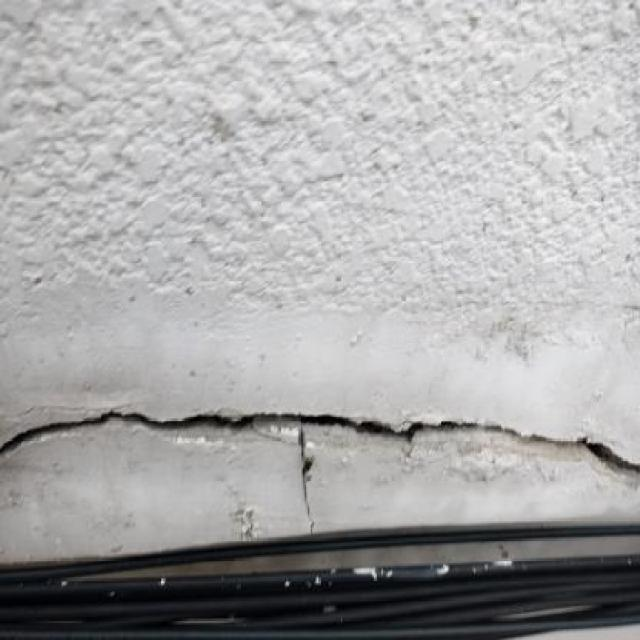GRIETA: (0, 411, 639, 472), (297, 423, 314, 532)
